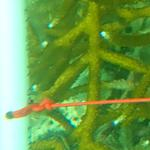alive: (17, 4, 149, 147)
